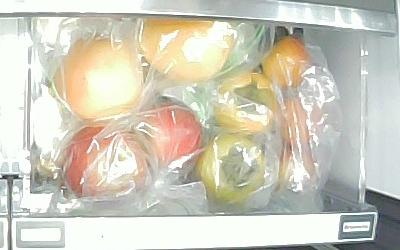apple_vinyl: (62, 124, 146, 202), (132, 101, 202, 167)
grapefruit_vinyl: (55, 32, 147, 121), (139, 15, 236, 81)
persimmon_vinyl: (199, 132, 269, 202), (213, 70, 282, 132)
prune_vinyl: (261, 35, 313, 89), (279, 95, 326, 142), (279, 148, 321, 192)
